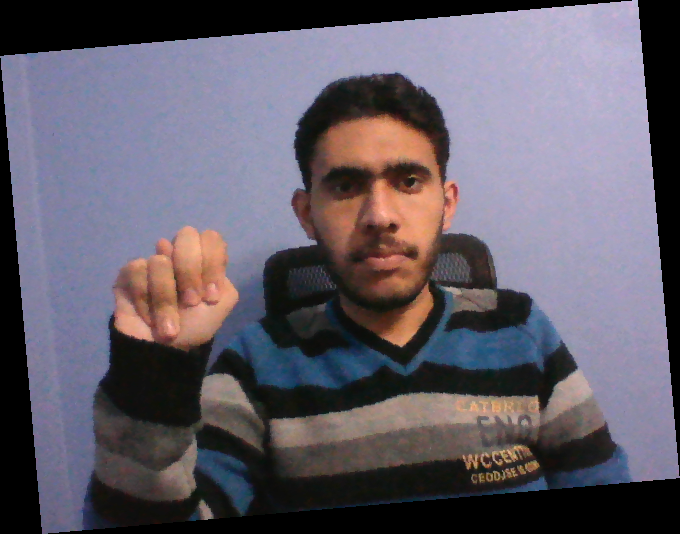N: (103, 222, 244, 362)
